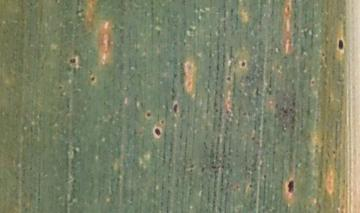tarspot: (284, 176, 297, 196), (334, 35, 347, 55), (151, 123, 163, 141), (64, 55, 80, 67), (170, 99, 180, 117), (143, 106, 154, 120), (222, 73, 235, 84), (87, 72, 97, 84), (238, 58, 249, 68)
